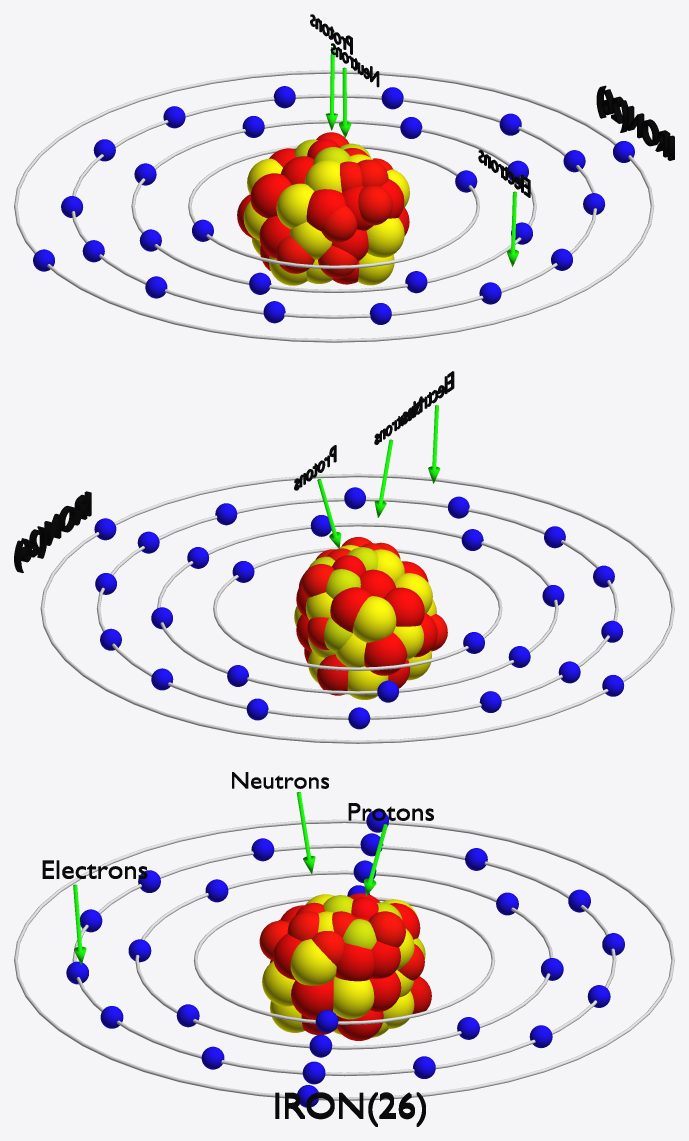
Rendered from Iron Atomic Model.gltf.
3 views of the same model, one above another, from view 1: azimuth 30°, elevation 25°; view 2: azimuth 150°, elevation 25°; view 3: azimuth 270°, elevation 25° (orthographic). The views are drawn at different scales.
Parts seen in each view (by area): view 1: Sphere.038, Torus.003, Torus.002, Torus.001, Torus, Text.003, Sphere.001, Sphere.002, Sphere.004, Sphere.003, Sphere.031, Text (+3 smaller); view 2: Sphere.038, Torus.003, Torus.002, Torus.001, Torus, Text.003, Sphere.006; view 3: Sphere.038, Torus.003, Torus.002, Torus.001, Torus, Text.003, Sphere.006, Text, Sphere.031, Text.001, Sphere.033, Sphere.001 (+1 smaller).
Boxes of the visible parts, <box> form: Sphere.038: <box>237,139,409,285</box>; Torus.003: <box>14,70,654,342</box>; Torus.002: <box>71,94,596,318</box>; Torus.001: <box>131,119,536,292</box>; Torus: <box>188,144,479,268</box>; Text.003: <box>596,85,674,160</box>; Sphere.001: <box>358,185,392,225</box>; Sphere.002: <box>321,206,357,242</box>; Sphere.004: <box>276,235,314,273</box>; Sphere.003: <box>318,245,357,278</box>; Sphere.031: <box>357,159,388,186</box>; Text: <box>478,150,530,197</box>; Sphere.038: <box>294,545,437,699</box>; Torus.003: <box>40,473,674,743</box>; Torus.002: <box>96,497,618,719</box>; Torus.001: <box>157,523,558,694</box>; Torus: <box>213,547,502,670</box>; Text.003: <box>14,491,91,572</box>; Sphere.006: <box>301,564,334,597</box>; Sphere.038: <box>262,893,431,1040</box>; Torus.003: <box>14,819,674,1100</box>; Torus.002: <box>72,844,616,1076</box>; Torus.001: <box>135,870,553,1049</box>; Torus: <box>193,895,495,1024</box>; Text.003: <box>275,1092,425,1126</box>; Sphere.006: <box>368,911,405,947</box>; Text: <box>42,860,147,878</box>; Sphere.031: <box>287,911,319,941</box>; Text.001: <box>232,772,328,788</box>; Sphere.033: <box>311,931,344,965</box>; Sphere.001: <box>259,920,289,960</box>.
Bounding box in the file's own units: 6.54 × 2.61 × 6.14.
